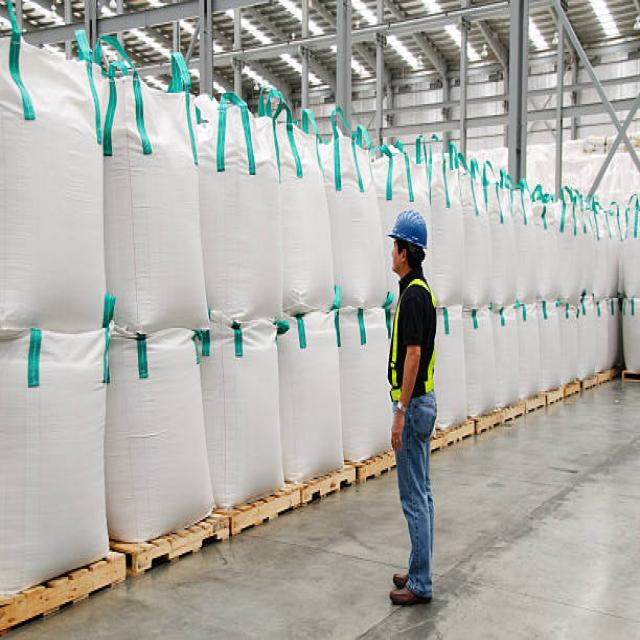Wooden-Pallets: (0, 549, 121, 640), (133, 502, 232, 589), (228, 479, 299, 546), (300, 454, 357, 519)
